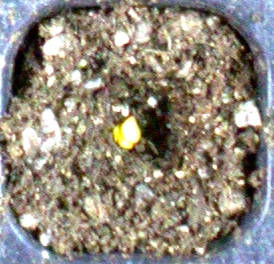pepper seed: (44, 48, 180, 198), (49, 44, 191, 187)
